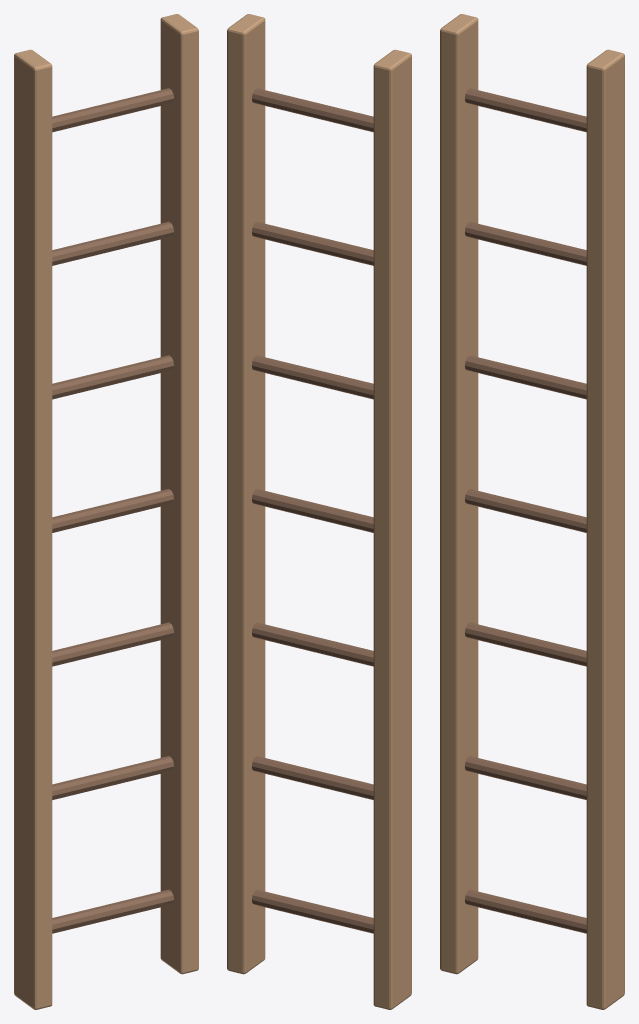
Rendered from hh_ladder.glb.
3 views of the same model, side by side, from view 1: azimuth 30°, elevation 25°; view 2: azimuth 150°, elevation 25°; view 3: azimuth 330°, elevation 25° (orthographic).
Parts seen in each view (by area): view 1: rail, rail.001, rung, rung.004, rung.006, rung.001, rung.002, rung.003, rung.005; view 2: rail, rail.001, rung, rung.004, rung.006, rung.001, rung.002, rung.003, rung.005; view 3: rail.001, rail, rung, rung.004, rung.006, rung.001, rung.002, rung.003, rung.005.
Part boxes in pixels (x1=…): rail: x1=14, y1=49, x2=52, y2=1009; rail.001: x1=160, y1=14, x2=198, y2=974; rung: x1=52, y1=889, x2=173, y2=933; rung.004: x1=52, y1=355, x2=174, y2=399; rung.006: x1=52, y1=88, x2=173, y2=132; rung.001: x1=52, y1=756, x2=174, y2=799; rung.002: x1=52, y1=622, x2=173, y2=666; rung.003: x1=52, y1=489, x2=174, y2=532; rung.005: x1=52, y1=221, x2=173, y2=265; rail: x1=373, y1=49, x2=411, y2=1009; rail.001: x1=227, y1=14, x2=265, y2=974; rung: x1=252, y1=889, x2=373, y2=933; rung.004: x1=251, y1=355, x2=373, y2=399; rung.006: x1=252, y1=88, x2=373, y2=132; rung.001: x1=251, y1=756, x2=373, y2=799; rung.002: x1=252, y1=622, x2=373, y2=666; rung.003: x1=251, y1=489, x2=373, y2=532; rung.005: x1=252, y1=221, x2=373, y2=265; rail.001: x1=586, y1=49, x2=624, y2=1009; rail: x1=440, y1=14, x2=478, y2=974; rung: x1=465, y1=889, x2=586, y2=933; rung.004: x1=464, y1=355, x2=586, y2=399; rung.006: x1=465, y1=88, x2=586, y2=132; rung.001: x1=464, y1=756, x2=586, y2=799; rung.002: x1=465, y1=622, x2=586, y2=666; rung.003: x1=464, y1=489, x2=586, y2=532; rung.005: x1=465, y1=221, x2=586, y2=265.
Size of the model in its own units: 0.44 by 2.4 by 0.1.
